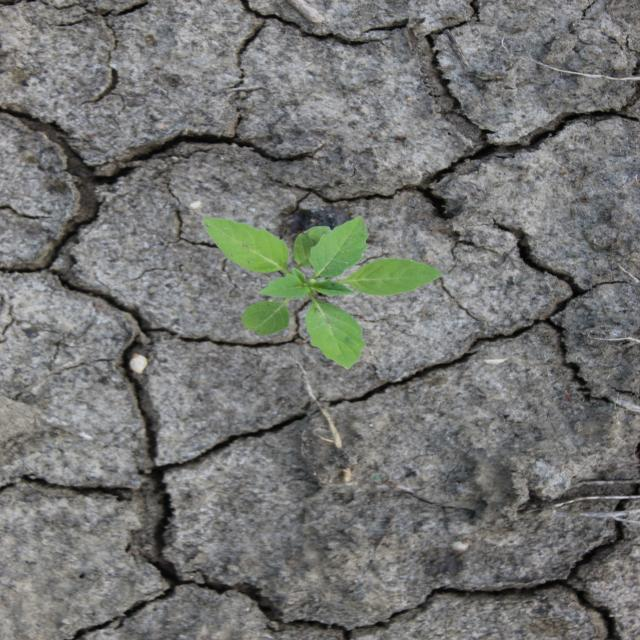CutleafGroundcherry: (199, 215, 446, 371)
